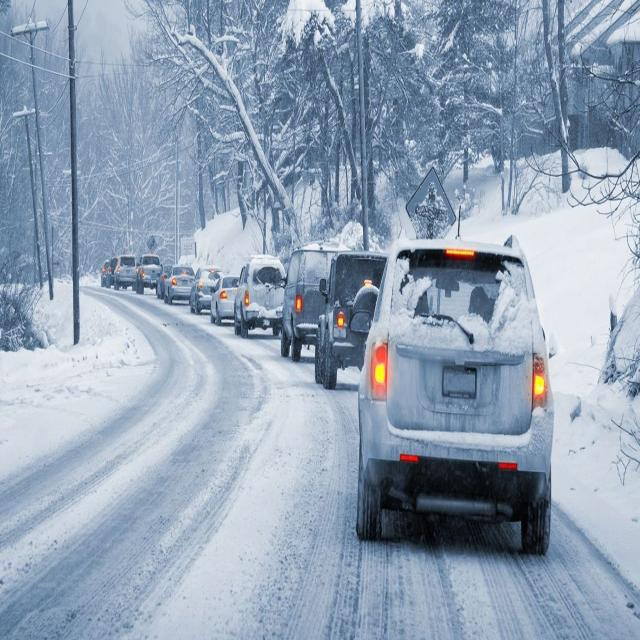car: (352, 242, 559, 552), (318, 249, 382, 391), (285, 245, 325, 365), (234, 255, 286, 337), (189, 268, 221, 314), (212, 274, 240, 324), (161, 268, 195, 304), (114, 249, 136, 286), (136, 250, 157, 283), (155, 261, 171, 289), (105, 251, 116, 286), (100, 260, 108, 282)
